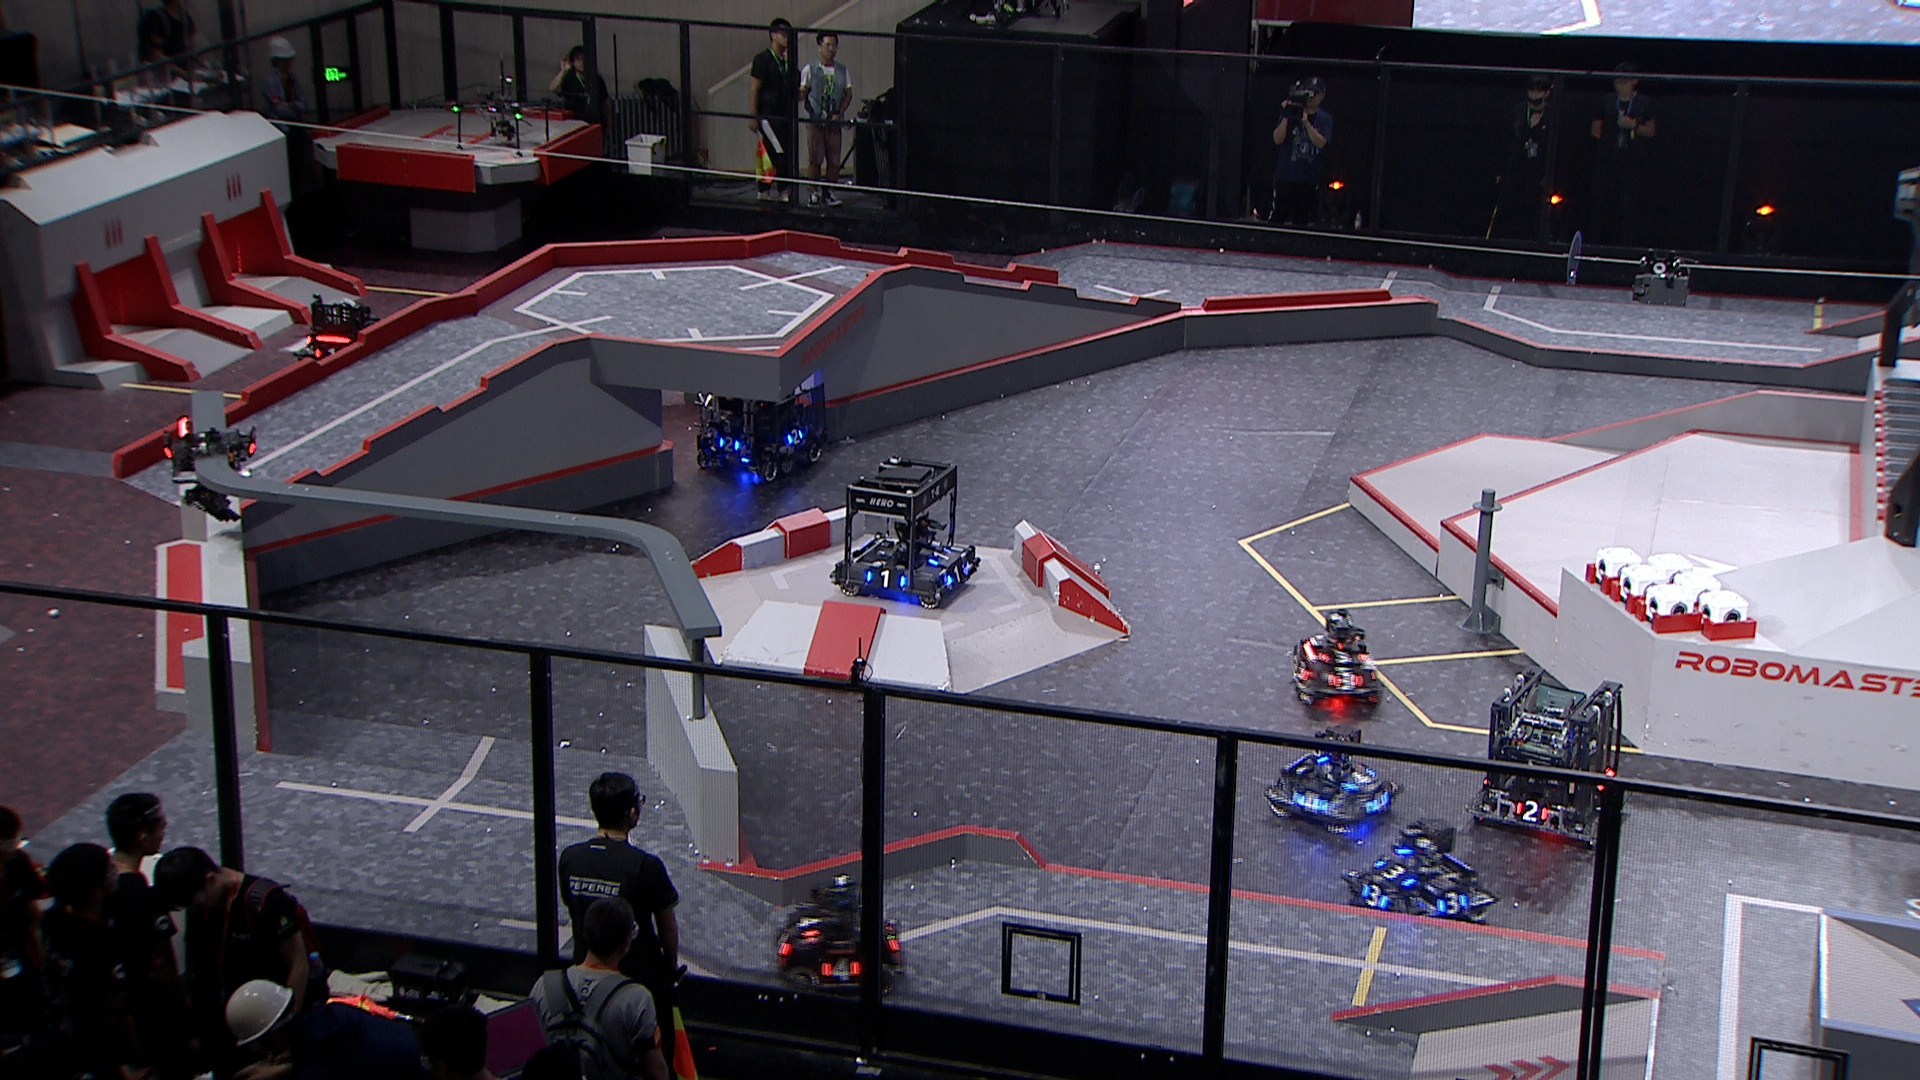armor: (823, 955, 860, 981), (1513, 799, 1552, 822), (864, 570, 907, 589), (794, 909, 818, 939), (1378, 858, 1406, 884), (1364, 789, 1393, 812), (1295, 793, 1324, 816), (1362, 884, 1387, 910), (1346, 766, 1375, 787), (1437, 891, 1466, 913), (1329, 671, 1362, 688), (775, 924, 793, 957), (926, 543, 951, 566), (1324, 650, 1361, 665), (713, 436, 742, 455), (945, 564, 965, 585), (1296, 657, 1309, 683), (316, 345, 335, 361), (787, 429, 804, 443)
car: (1466, 669, 1626, 853), (828, 451, 978, 608), (692, 357, 829, 485), (767, 874, 909, 996), (1344, 818, 1493, 932), (1265, 723, 1408, 835), (1287, 609, 1387, 709), (291, 295, 386, 378)
watcher: (162, 415, 261, 531)
